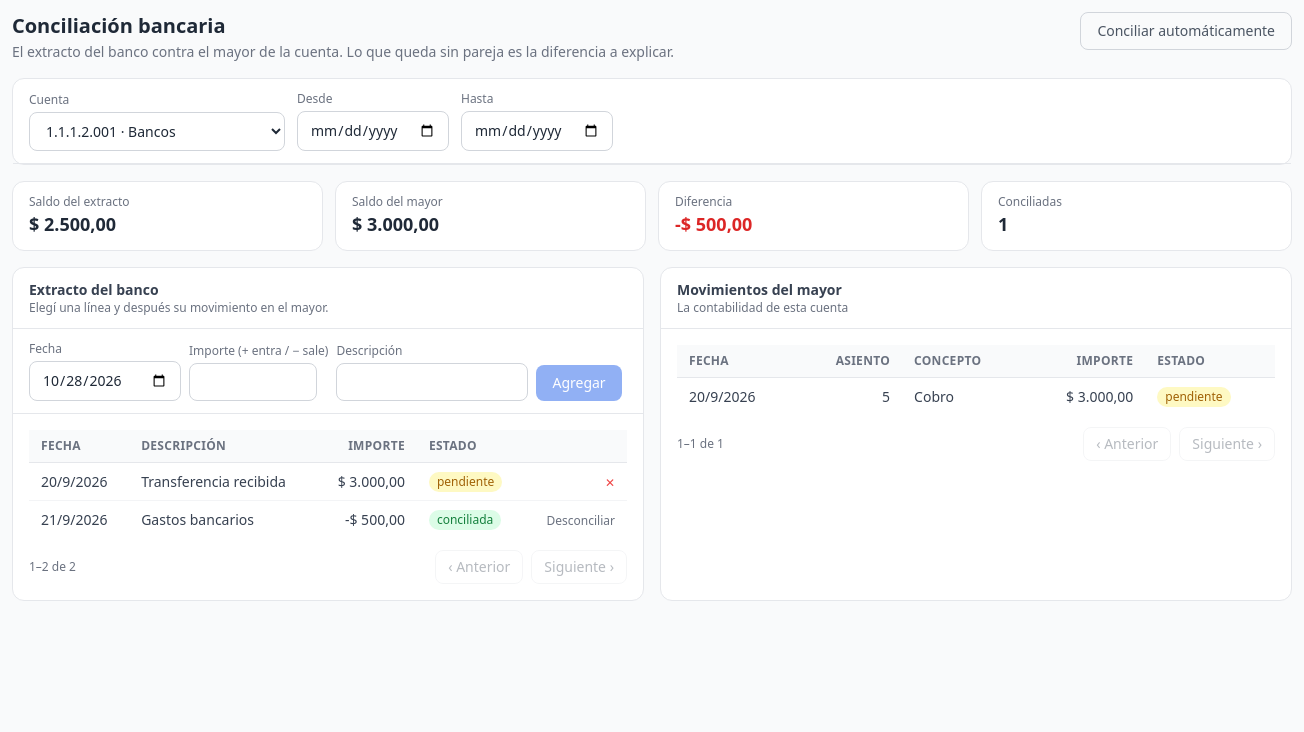
Test: Conciliación bancaria › concilia automáticamente y muestra el resultado
This screenshot has width=1304, height=732.
Expected: the text "Transferencia recibida" is shown, [129,462,316,500]
What coordinates should you click on to do the following:
click the button "Conciliar automáticamente"
I would click on:
 (1186, 31)
Its box is [1080,12,1292,50].
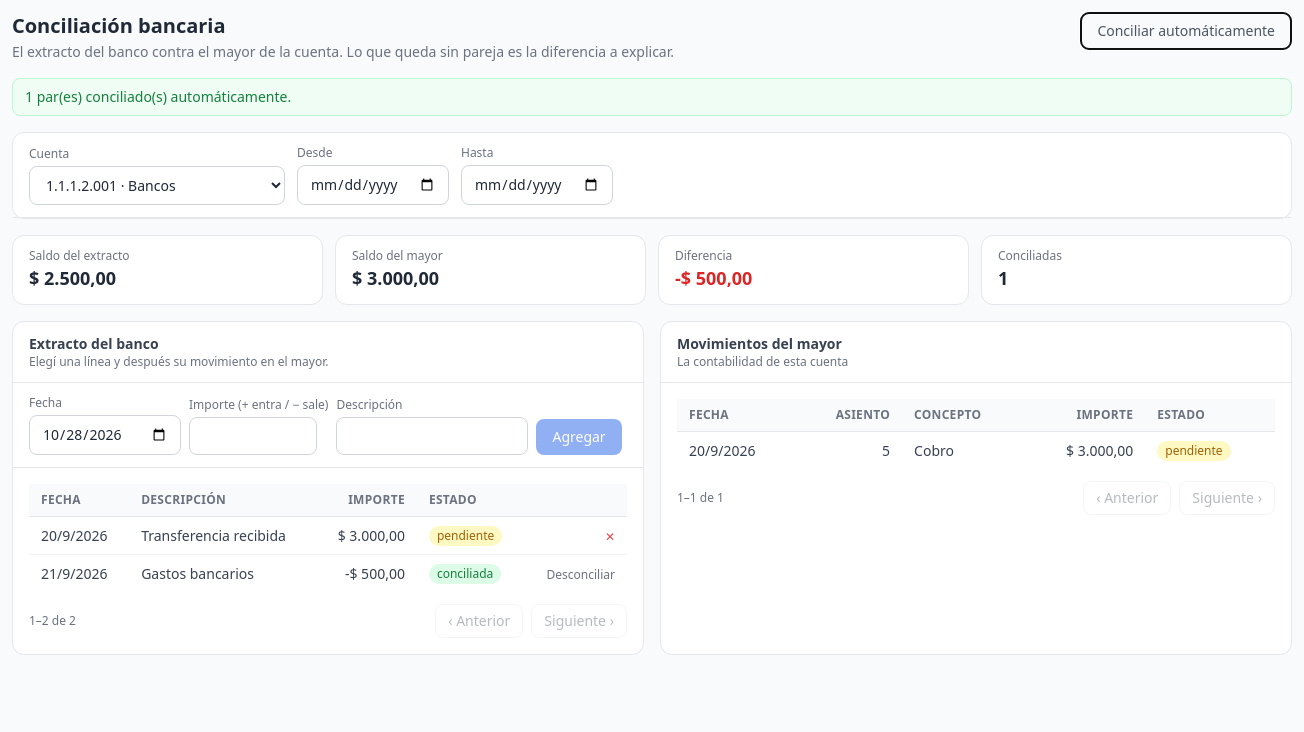
Result: the text "1 par(es) conciliado(s) automáticamente." is shown at [12,78,1292,116]
